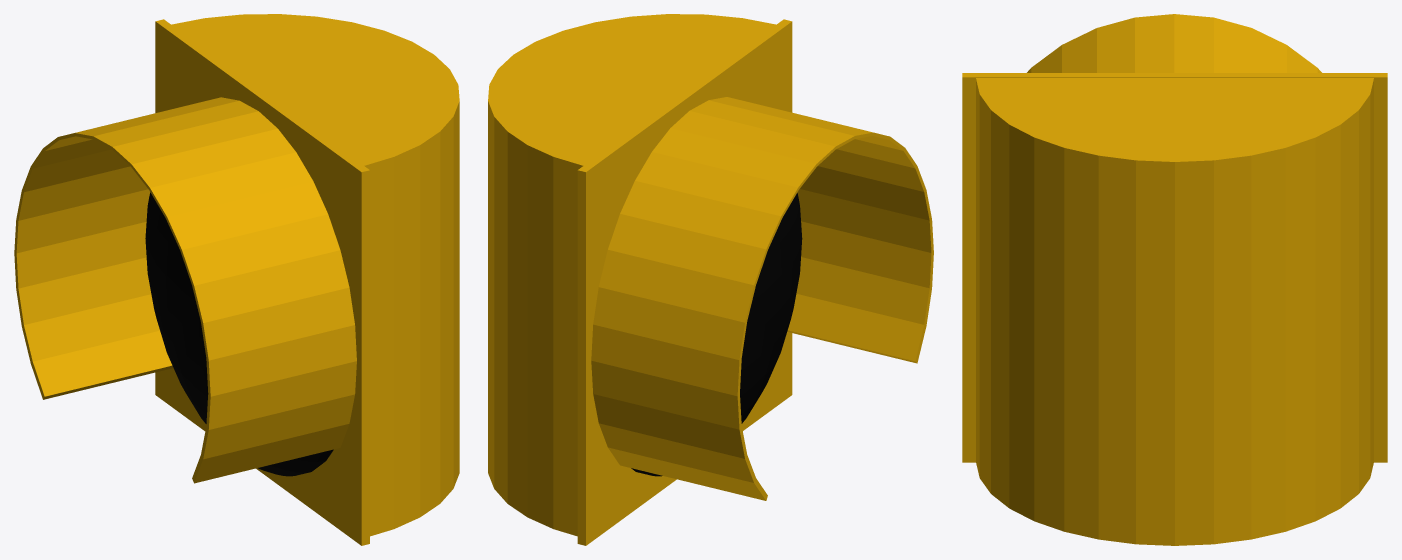
File: CityTrafficLightBase.fbx
3 views of the same model, side by side, from view 1: azimuth 30°, elevation 25°; view 2: azimuth 150°, elevation 25°; view 3: azimuth 270°, elevation 25° (orthographic). The views are drawn at different scales.
Visible parts, largest first — view 1: 円柱; view 2: 円柱; view 3: 円柱.
Boxes of the visible parts, left/top/right/bottom form: 円柱: left=14, top=14, right=459, bottom=545; 円柱: left=488, top=14, right=933, bottom=545; 円柱: left=962, top=14, right=1387, bottom=545.
Bounding box in the file's own units: 193 × 214 × 214.
